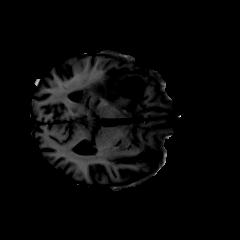glioma: (70, 63, 148, 113)
